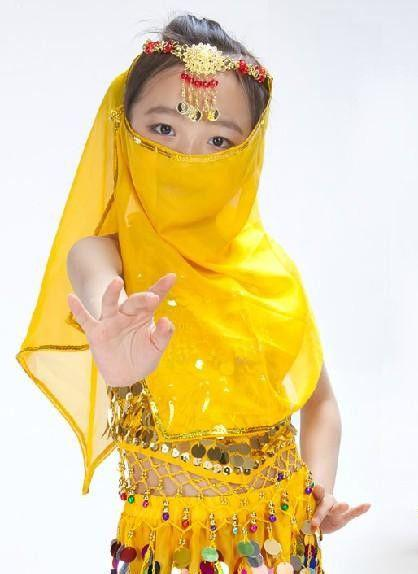OK: (133, 103, 243, 213)
